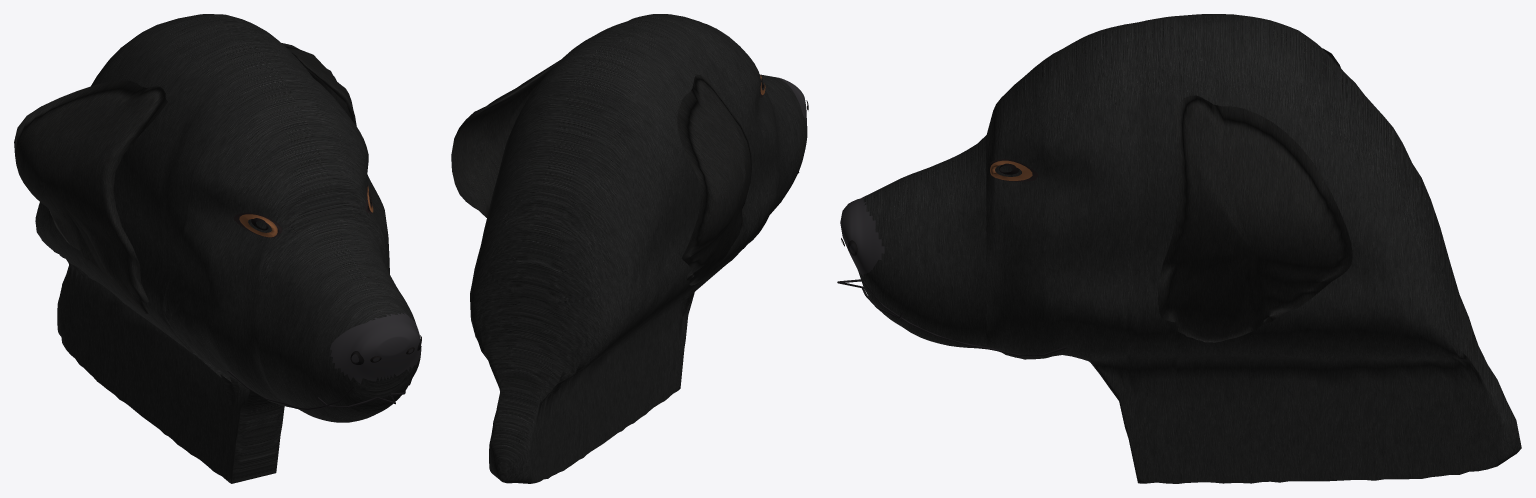
File: labrador_head_refined.glb
The picture shows the model from 3 angles, left to right: view 1: azimuth 30°, elevation 25°; view 2: azimuth 150°, elevation 25°; view 3: azimuth 270°, elevation 25°; orthographic projection. The views are drawn at different scales.
Parts seen in each view (by area): view 1: labrador_head_refined; view 2: labrador_head_refined; view 3: labrador_head_refined.
Boxes of the visible parts, <box> form: labrador_head_refined: <box>14,14,421,483</box>; labrador_head_refined: <box>451,14,808,483</box>; labrador_head_refined: <box>837,14,1521,483</box>.
Size of the model in its own units: 0.1721 by 0.2284 by 0.3163.
7 materials, 2 textured.
